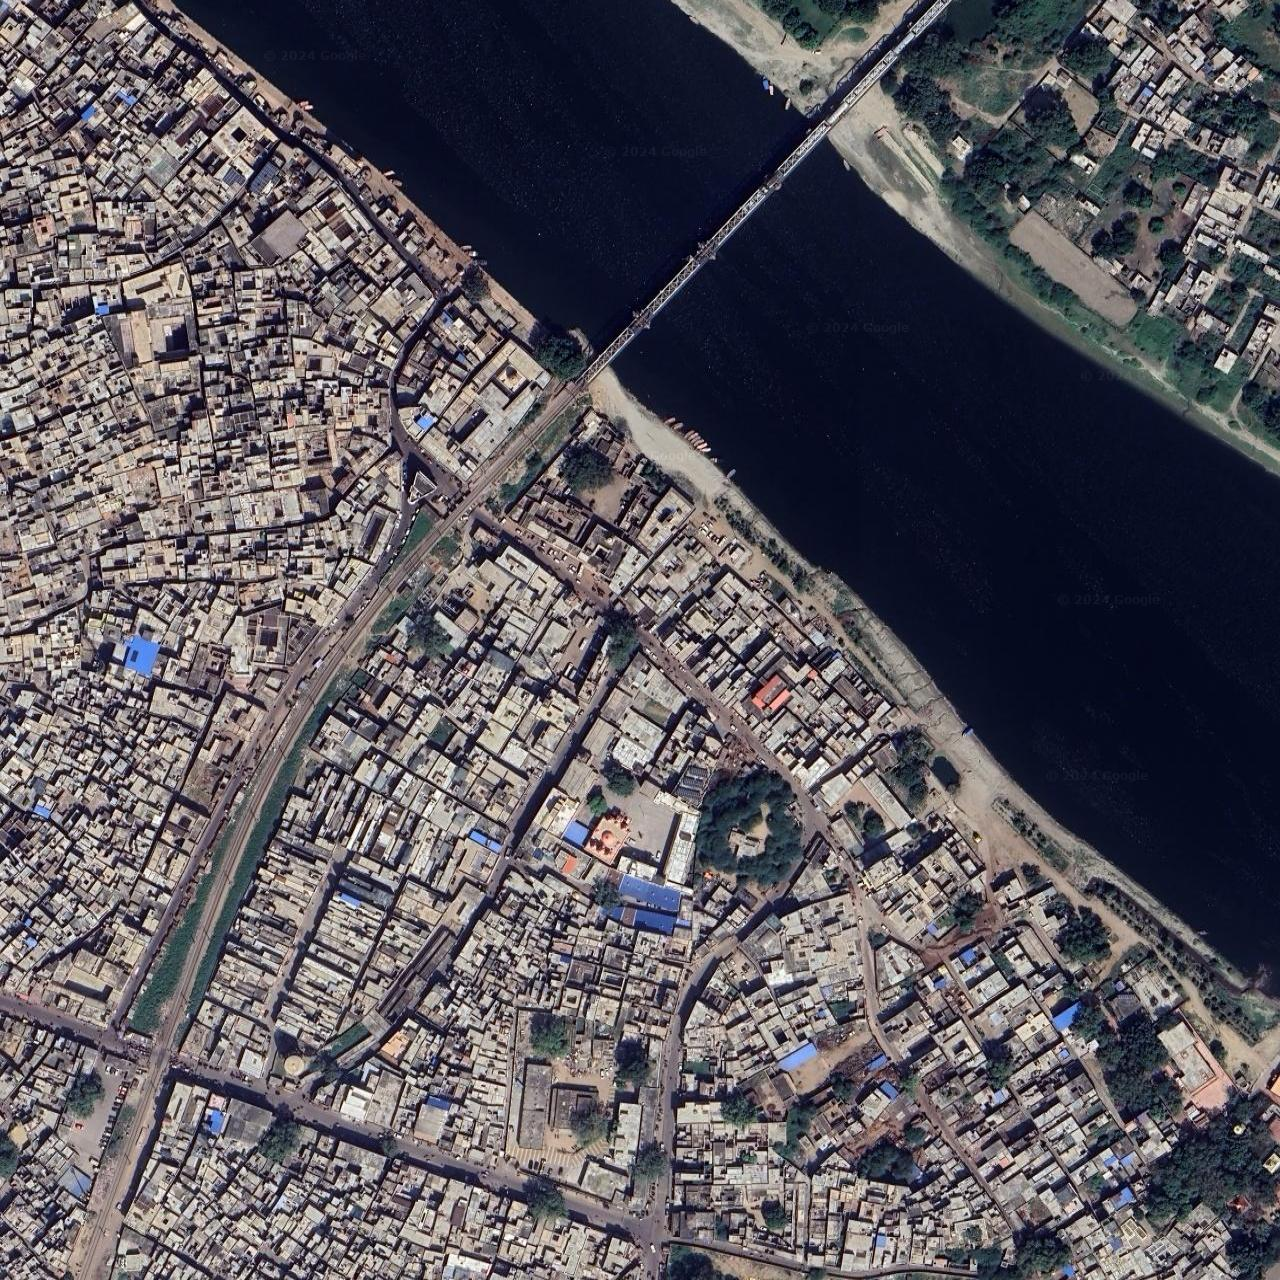greenery: (1145, 1095, 1280, 1279), (680, 0, 900, 98)
house: (0, 0, 550, 1017), (675, 670, 1250, 1280), (413, 545, 702, 1203), (576, 382, 890, 806), (110, 1083, 635, 1280), (188, 750, 503, 1071), (0, 1015, 132, 1279), (331, 613, 455, 742)
water: (618, 145, 1280, 989), (181, 0, 805, 345)
